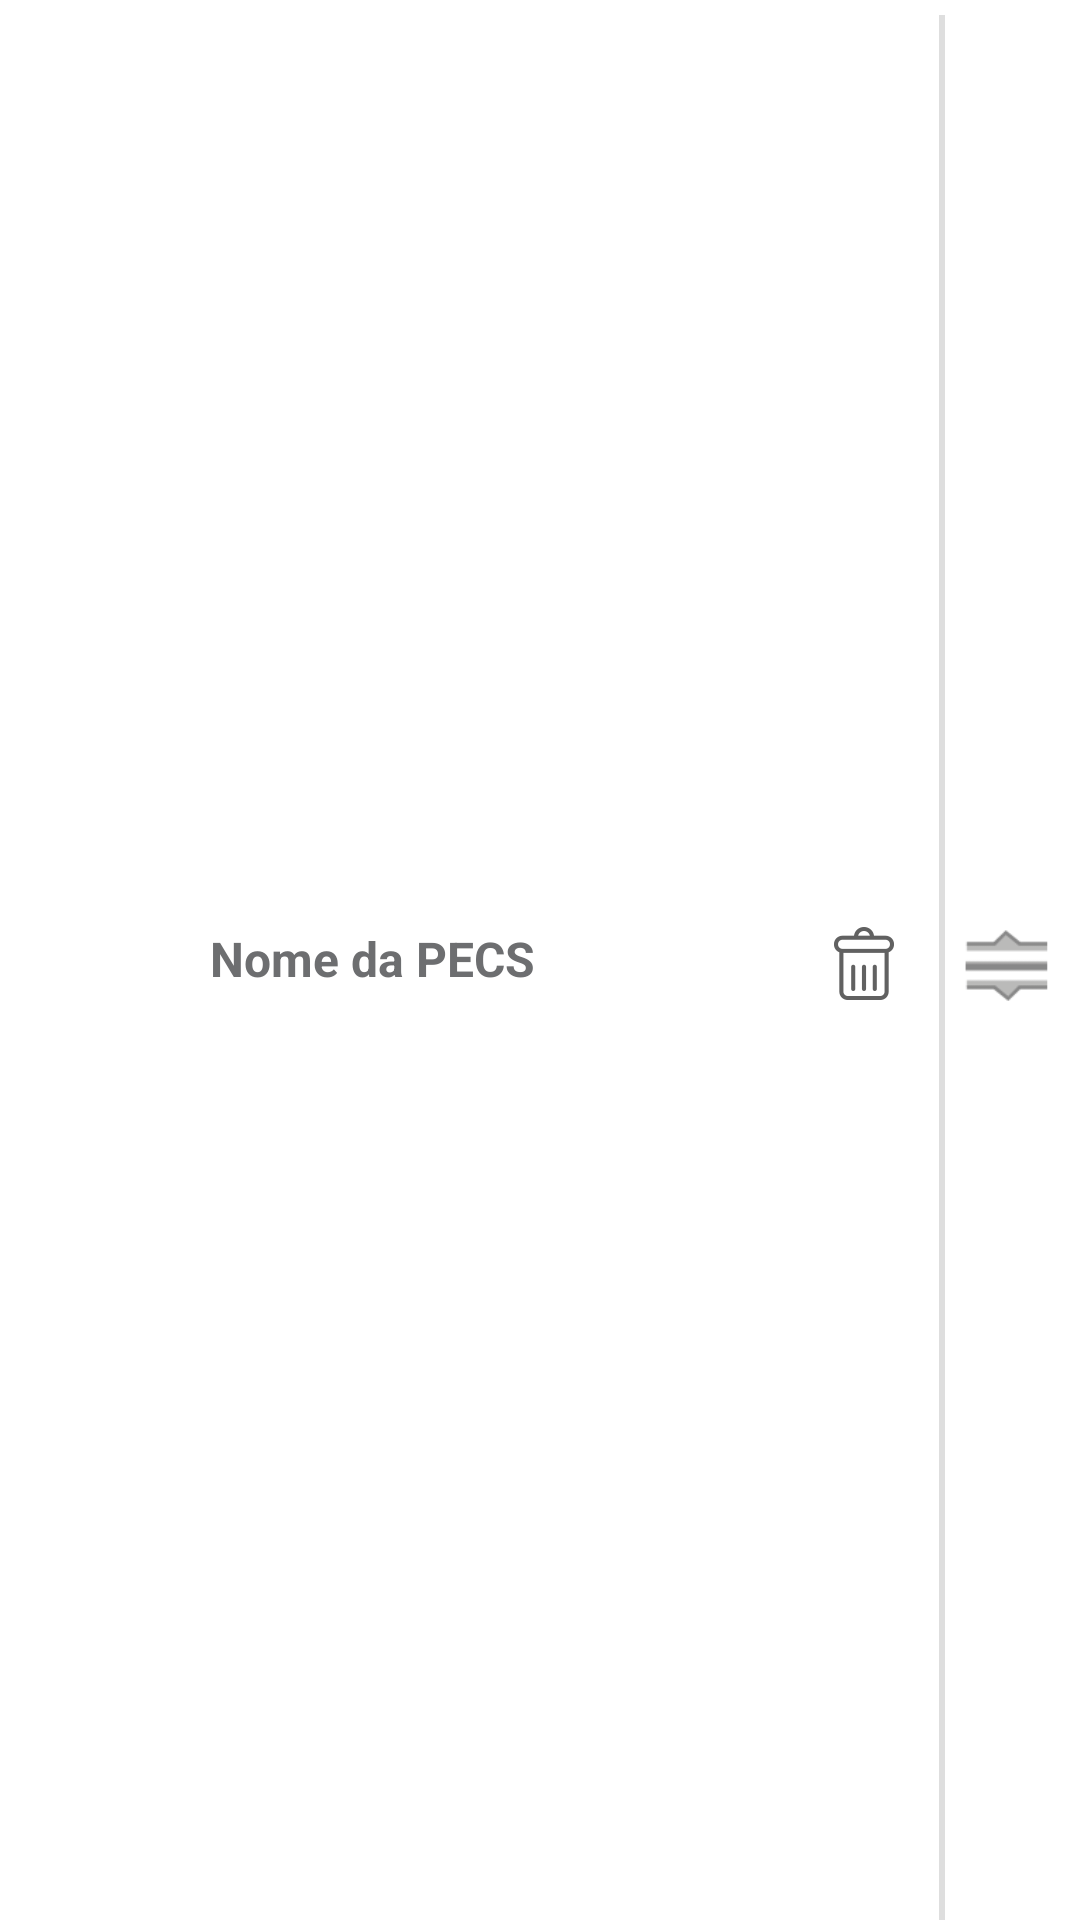

Locate icon controls on the screen. Image size 1080 × 1920, boxes as (x1, y1, x2, y2).
delete midia: (834, 927, 894, 1000)
